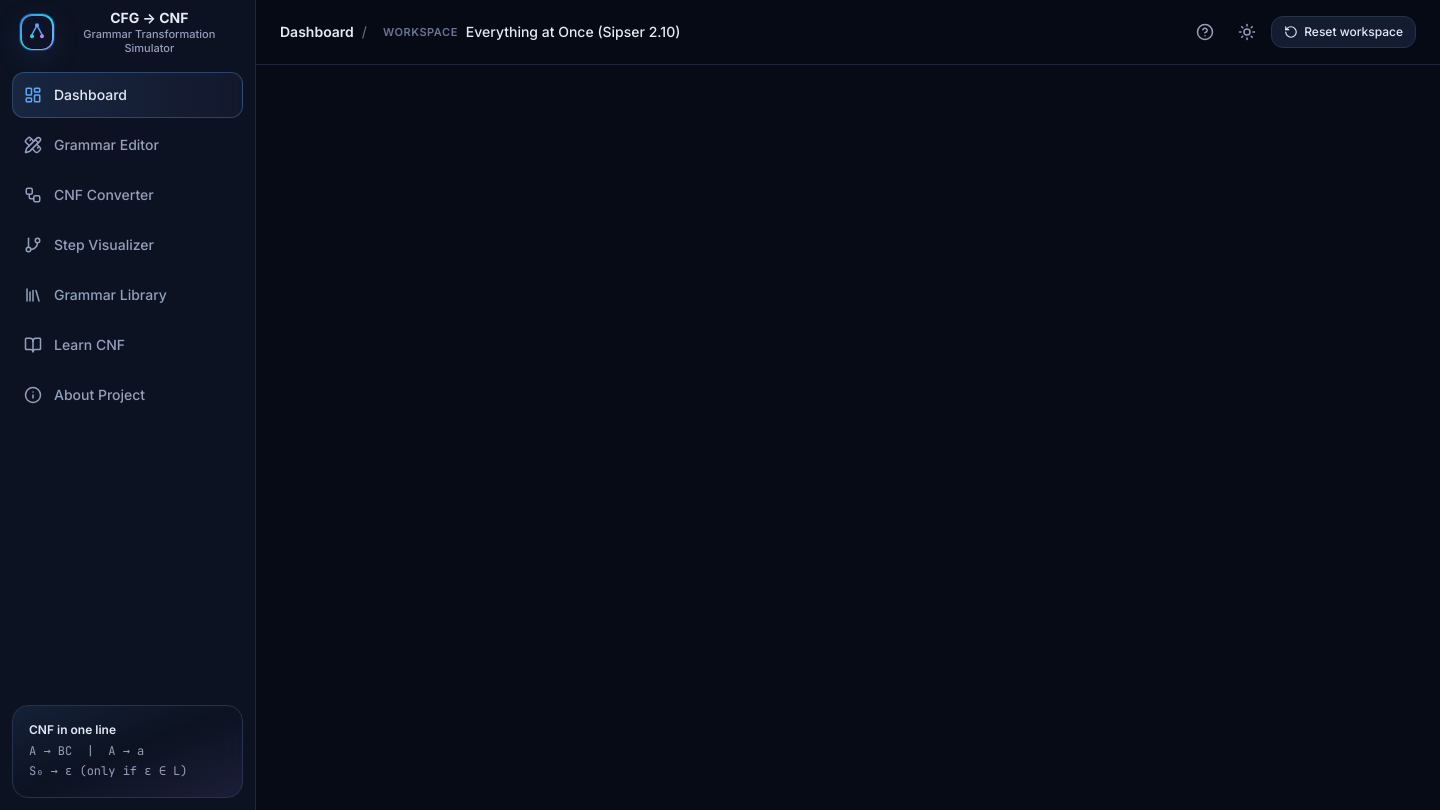
Test case: application shell › opens the help dialog
This screenshot has width=1440, height=810.
Click the button named "Help": (1205, 32) [1187,14,1223,50]
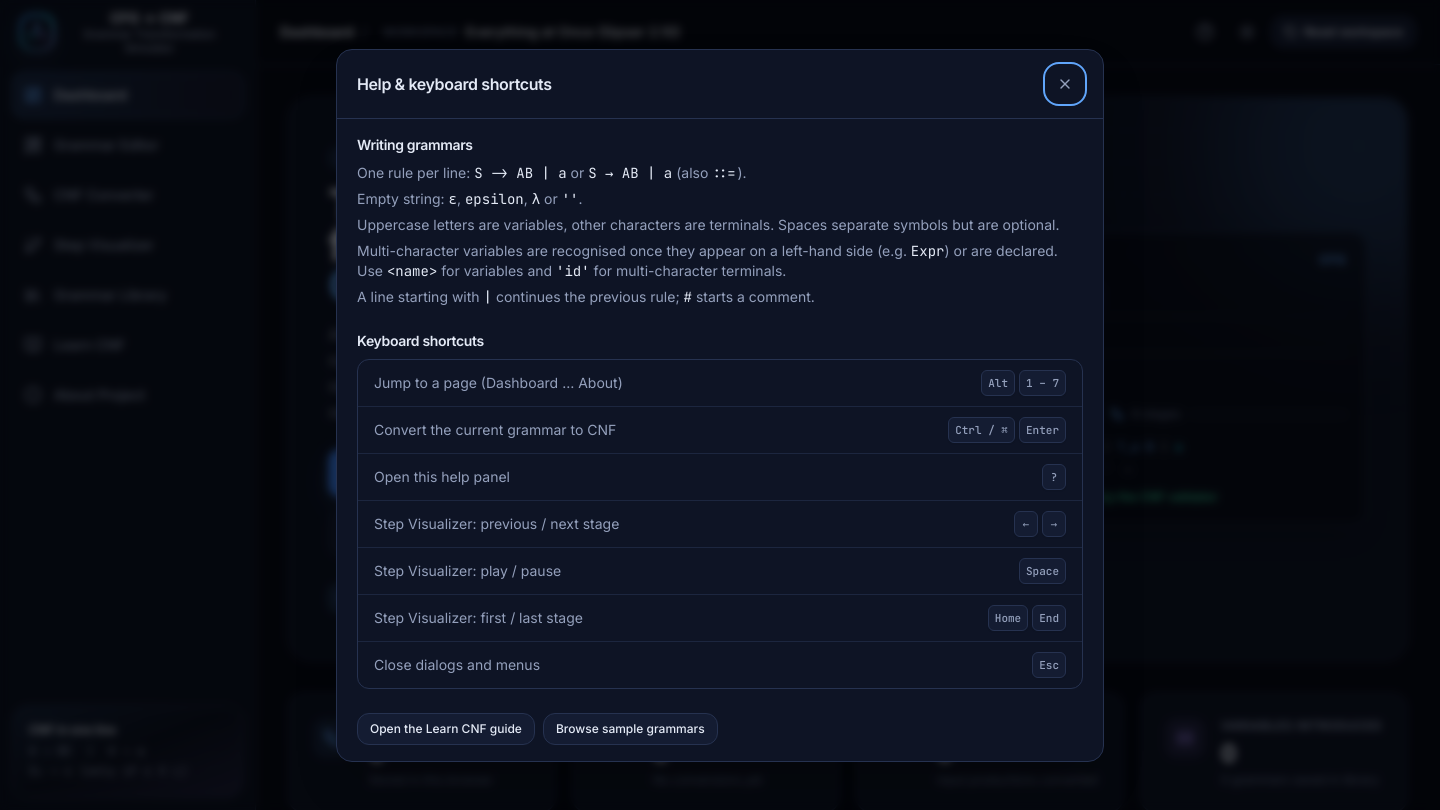
Result: the dialog "Help & keyboard shortcuts" is shown at [336,48,1104,762]
